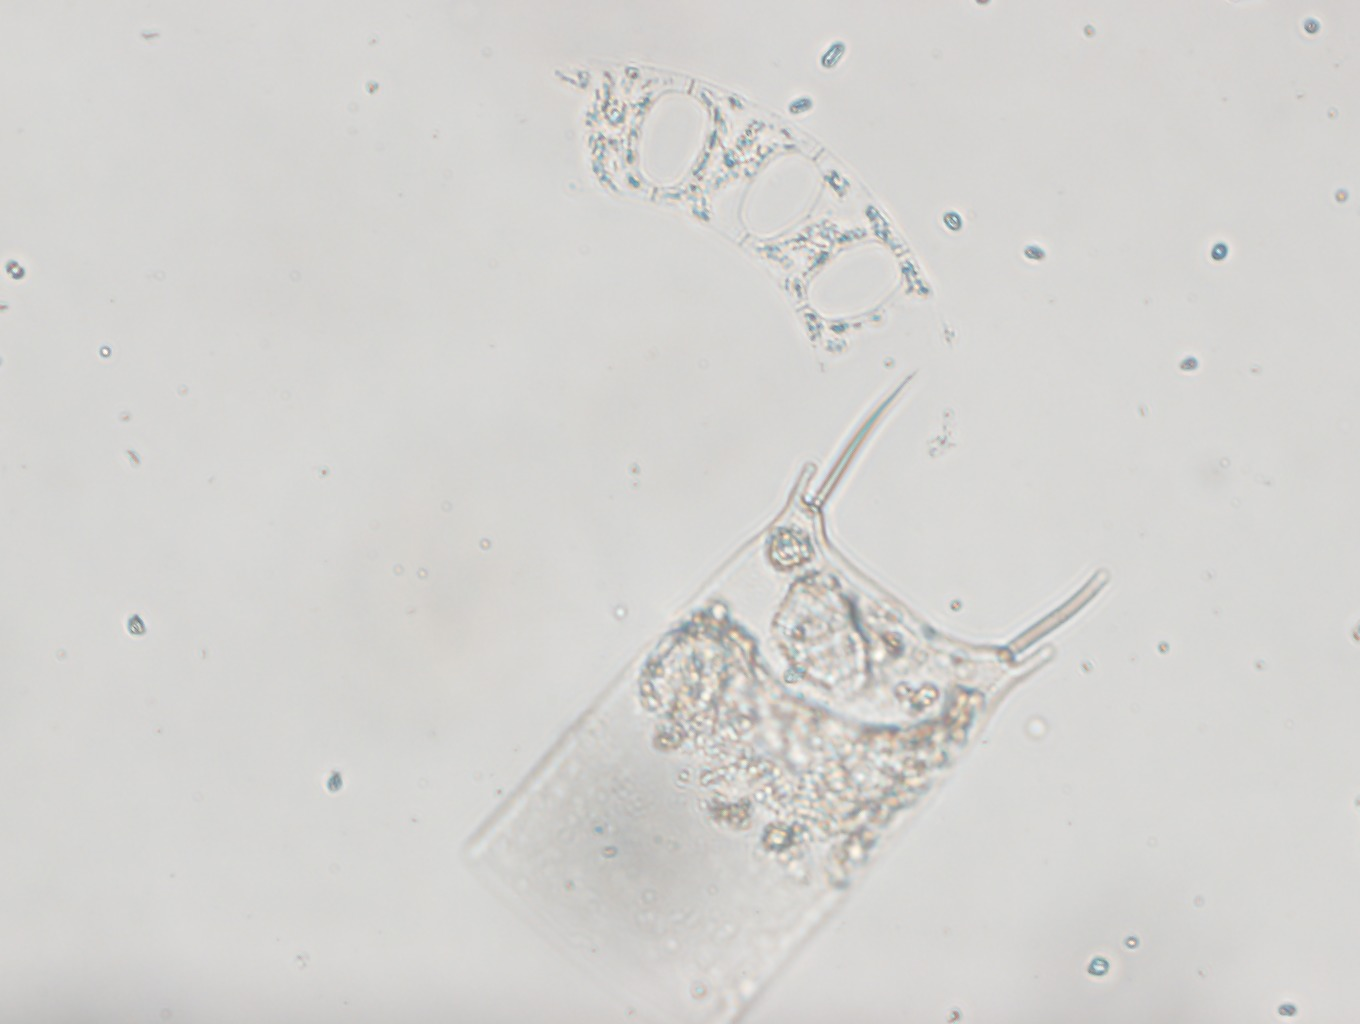biddulphia: (455, 367, 1150, 1014)
eucampia: (546, 49, 937, 366)
